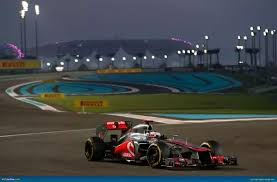FormulaOneCar: (80, 117, 239, 173)
